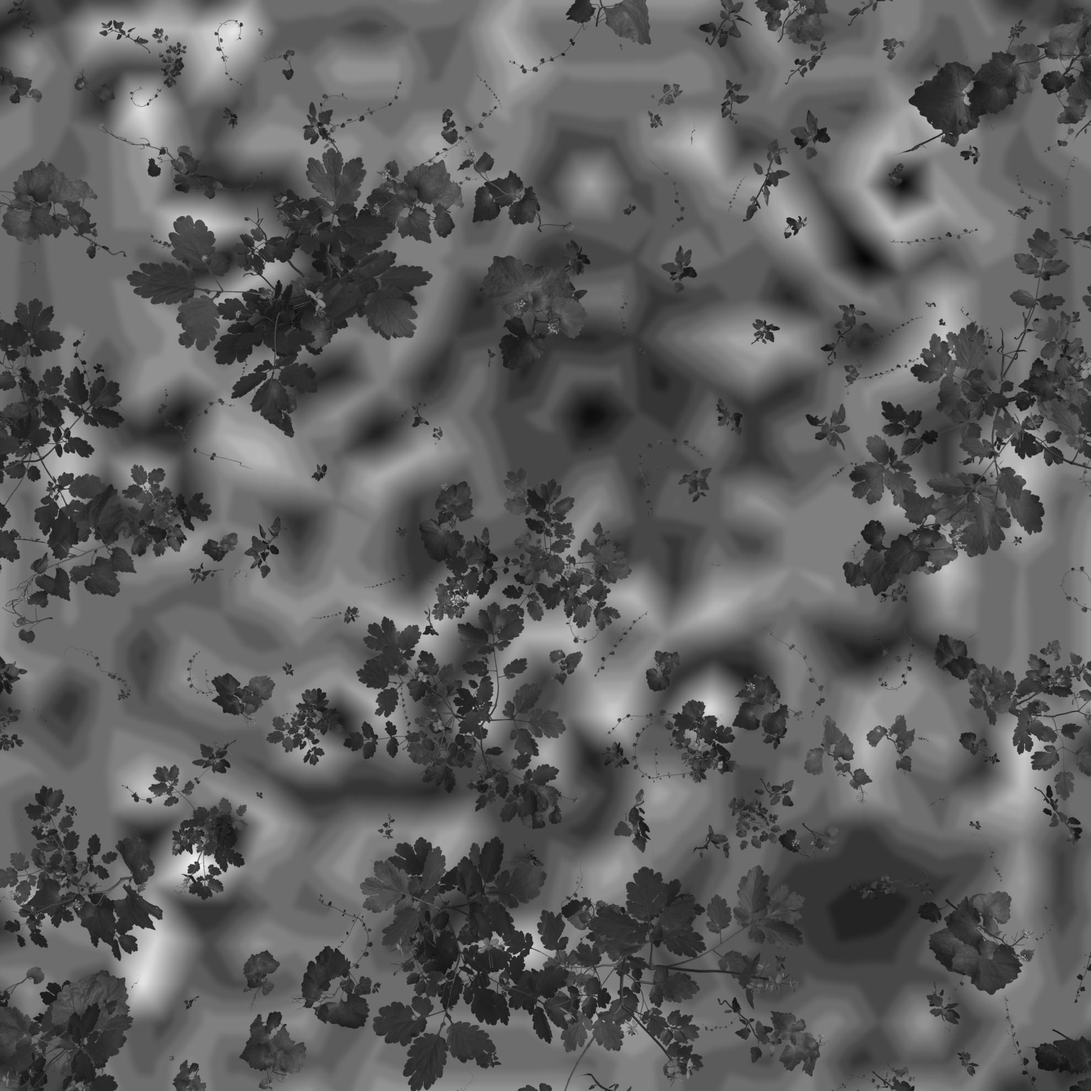landmine: (541, 370, 640, 459), (820, 865, 914, 958)
